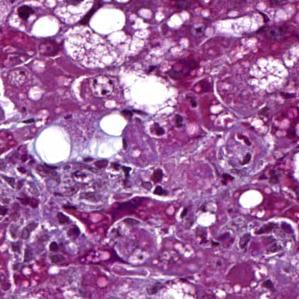ballooning: (64, 21, 119, 72), (246, 53, 292, 96)
